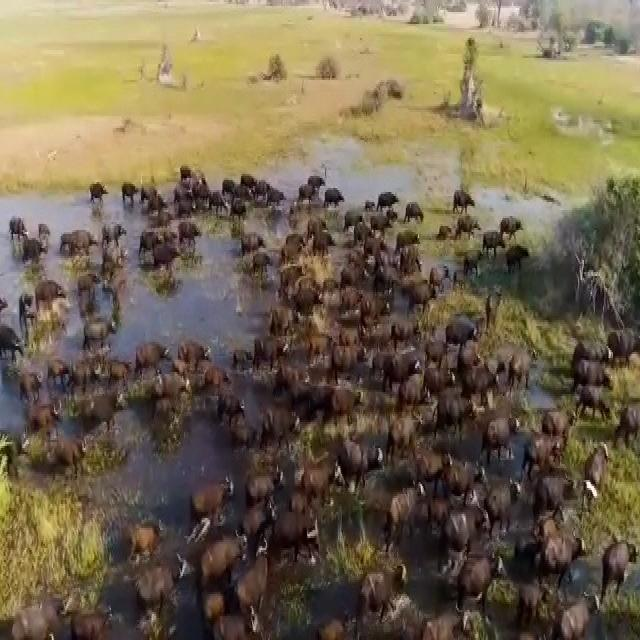Buffalo: (138, 553, 178, 614), (237, 552, 277, 612), (457, 556, 510, 600), (50, 427, 88, 486), (421, 601, 478, 640), (202, 530, 245, 581), (386, 476, 424, 532), (558, 586, 596, 640), (486, 479, 524, 533), (301, 458, 341, 508), (603, 539, 636, 599), (208, 611, 276, 640), (459, 360, 503, 404), (580, 450, 610, 512), (448, 492, 479, 552), (343, 441, 388, 482), (190, 479, 238, 517), (442, 394, 478, 444), (127, 518, 166, 562), (543, 534, 587, 572), (362, 562, 403, 602), (544, 473, 582, 515), (82, 395, 125, 432), (16, 606, 62, 640), (26, 397, 64, 438), (264, 408, 302, 448), (387, 416, 422, 458), (73, 604, 113, 640), (241, 502, 276, 542), (330, 384, 368, 420), (484, 412, 516, 454), (245, 464, 282, 500), (277, 515, 321, 545), (80, 310, 113, 349), (611, 332, 640, 376), (61, 224, 100, 256), (528, 426, 562, 462), (344, 280, 376, 318), (151, 375, 190, 406), (450, 454, 480, 494), (291, 276, 320, 317), (135, 340, 168, 375), (546, 406, 581, 439), (332, 333, 362, 371), (407, 276, 439, 311), (582, 387, 614, 421), (36, 278, 68, 312), (1, 323, 28, 363), (307, 324, 333, 365), (402, 363, 426, 407), (447, 314, 480, 346), (394, 316, 424, 350), (582, 358, 612, 391), (319, 614, 357, 640), (373, 355, 408, 382), (176, 223, 206, 251), (259, 335, 286, 366), (142, 227, 174, 253), (184, 336, 212, 365), (256, 182, 290, 205), (19, 372, 44, 402), (154, 245, 186, 268), (84, 179, 109, 208), (216, 388, 235, 426), (623, 406, 640, 448), (452, 190, 475, 221), (408, 202, 432, 229), (312, 233, 336, 260), (233, 234, 262, 256), (378, 186, 399, 216), (100, 225, 130, 246), (323, 186, 347, 212), (201, 190, 224, 217), (141, 188, 169, 210), (204, 363, 228, 388), (355, 219, 375, 249), (395, 249, 420, 273), (395, 230, 421, 253), (222, 172, 237, 210), (232, 198, 252, 226), (252, 253, 274, 277), (119, 183, 138, 210), (7, 218, 30, 240), (24, 242, 47, 263), (176, 190, 196, 214), (484, 232, 502, 258), (298, 184, 314, 212), (308, 220, 330, 239), (502, 220, 520, 242), (244, 172, 257, 190)
